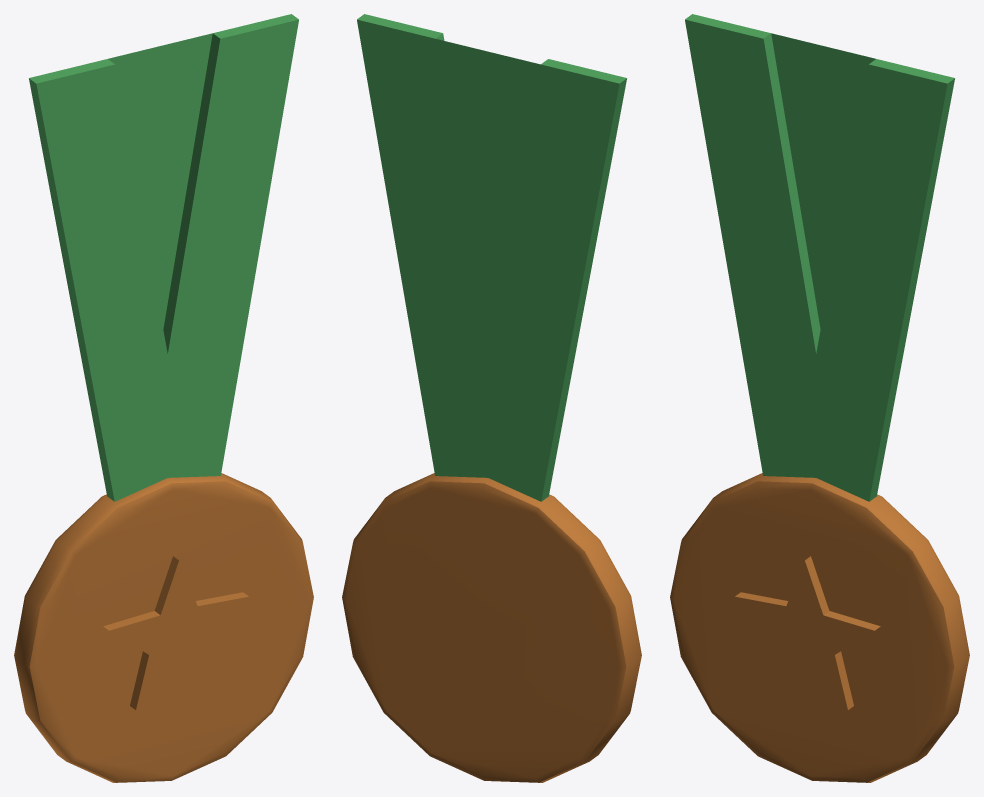
The model's file is BronzeMedal.fbx.
3 views of the same model, side by side, from view 1: azimuth 30°, elevation 25°; view 2: azimuth 150°, elevation 25°; view 3: azimuth 330°, elevation 25° (orthographic).
Parts seen in each view (by area): view 1: BronzeMedal; view 2: BronzeMedal; view 3: BronzeMedal.
Part boxes in pixels (x1,y1,x2,y2): BronzeMedal: (14, 14, 313, 782); BronzeMedal: (342, 14, 641, 782); BronzeMedal: (670, 14, 969, 782).
Bounding box in the file's own units: 1.1 × 2.65 × 0.16.
Materials: 1 (1 with a texture image).
